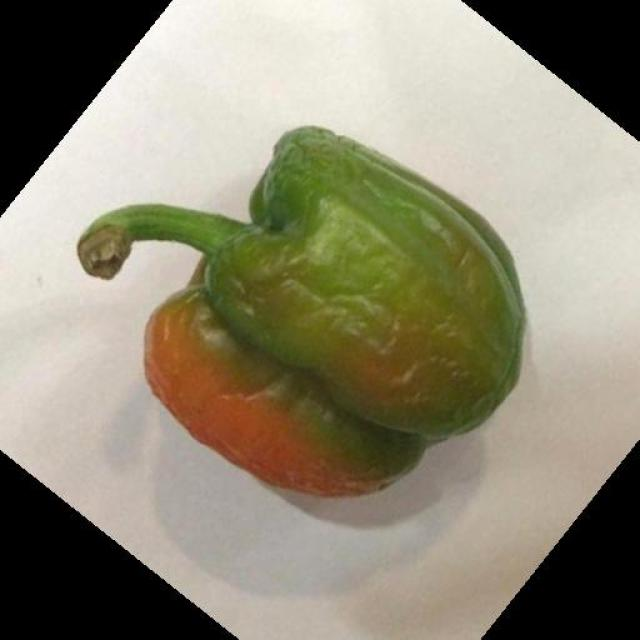Stale_Capsicum: (108, 101, 506, 526)
